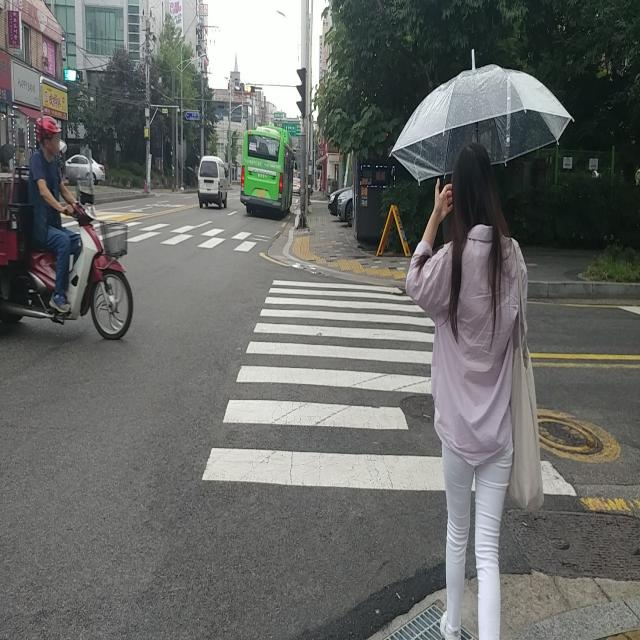횡단보도: (201, 278, 578, 503), (120, 219, 272, 252)
